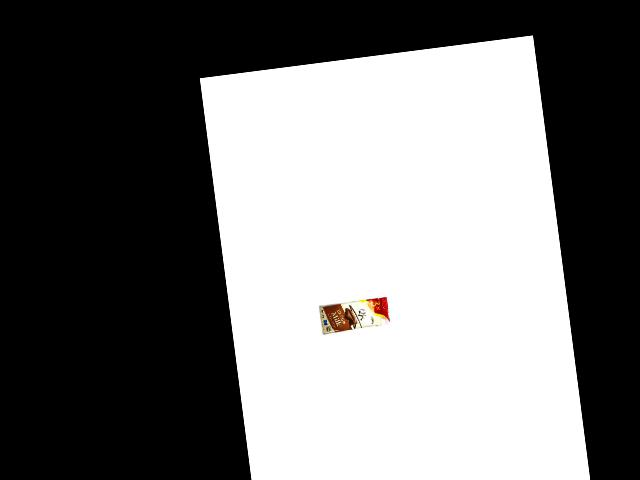chocolate: (320, 294, 392, 335)
